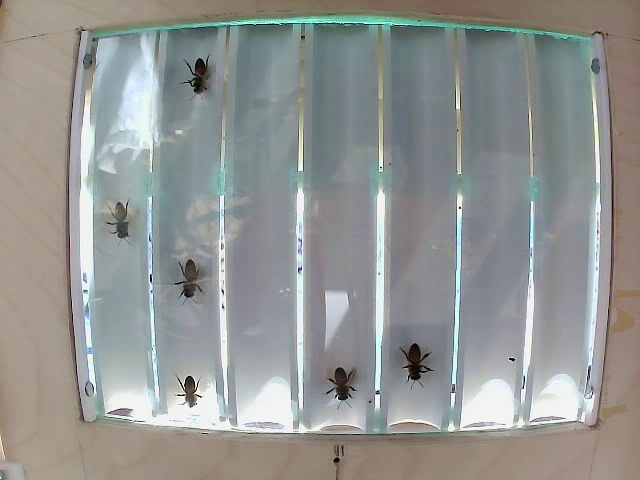bee: (398, 331, 437, 380), (158, 359, 203, 401), (327, 351, 364, 400), (105, 196, 137, 250), (163, 263, 210, 299), (191, 54, 224, 103)
